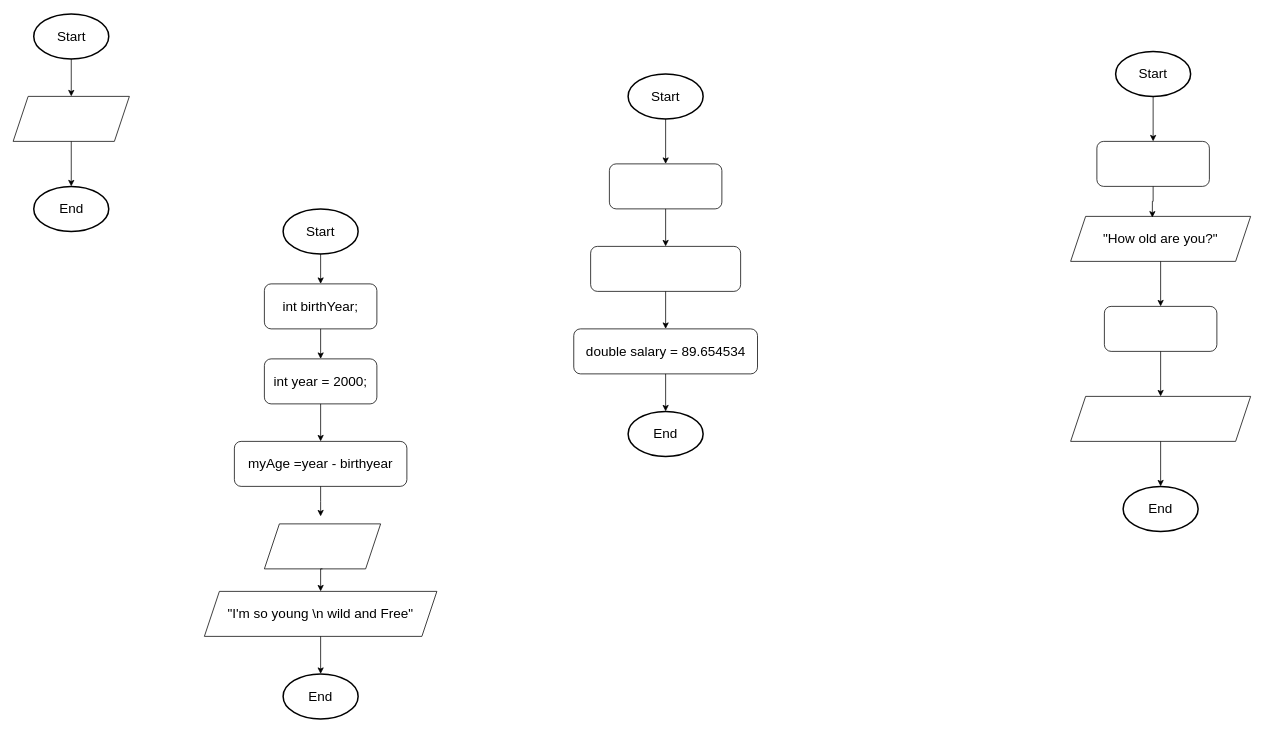
This 1264x732 diagram has some shape labels left out. The box of each missing label's shape, as (x1, y1, x2, y2) in pixels:
"Hello World": (12, 96, 129, 141)
"My age is 21": (264, 523, 381, 569)
"Your age is": (1070, 396, 1251, 441)
cin>>age;: (1104, 306, 1217, 351)
float salary = 1000.49;: (590, 246, 741, 291)
int age;: (1096, 141, 1209, 186)
int my_Grade;: (609, 163, 722, 209)
